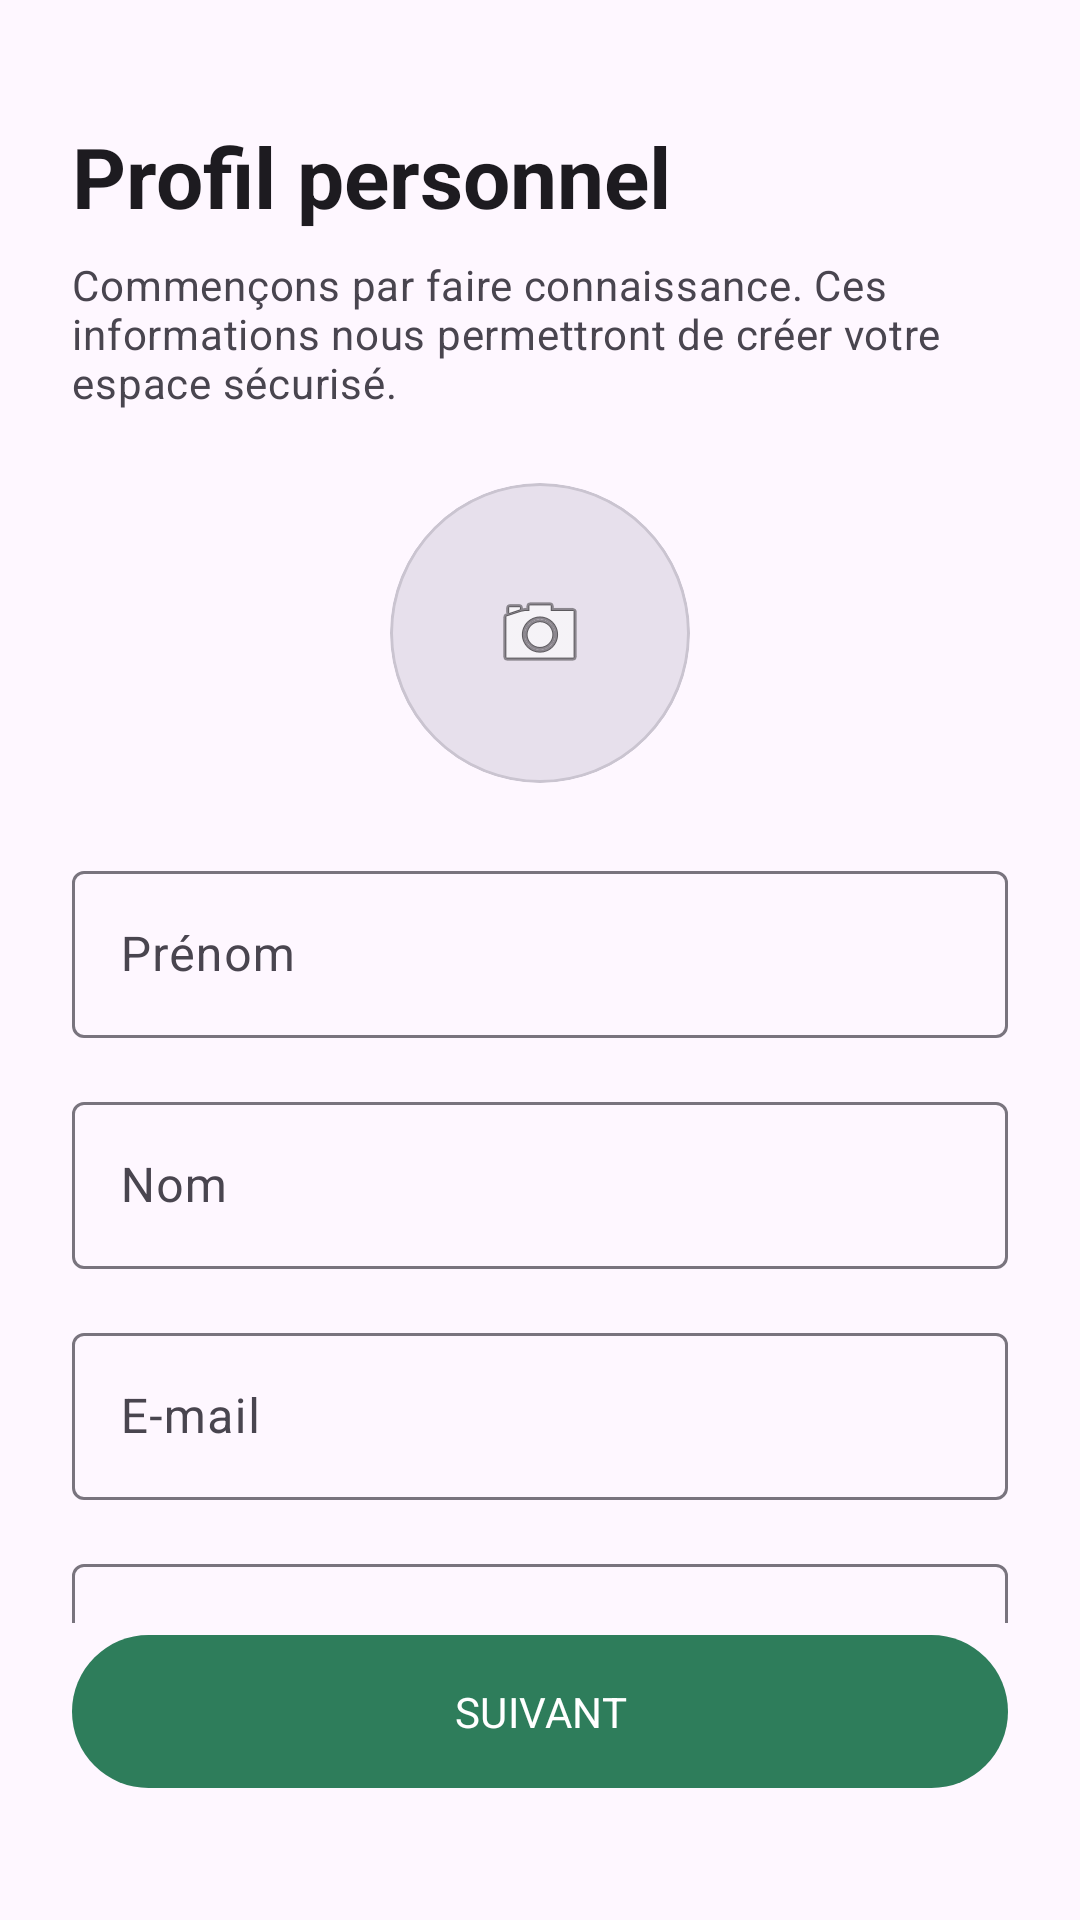

Screen size 1080×1920. Icon name, then its center in pixels as [x,y]:
Profile photo placeholder: [540,633]
